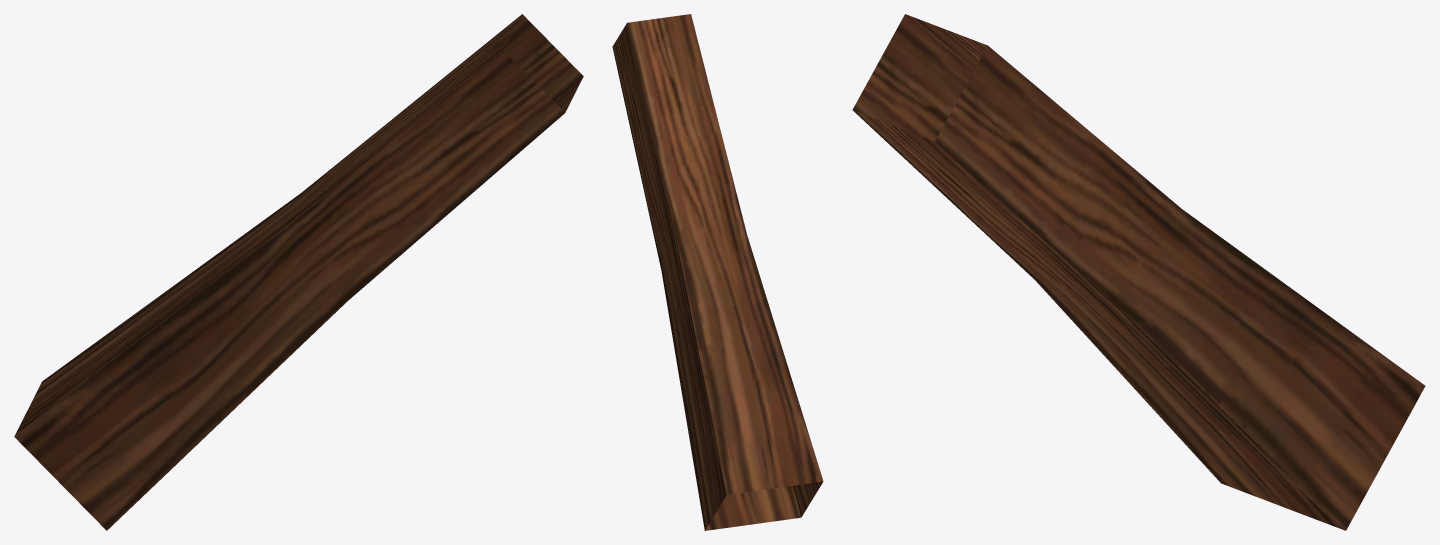
Rendered from OVERHILL_A_01_POST35.fbx.
3 renders of one model, left to right at view 1: azimuth 30°, elevation 25°; view 2: azimuth 150°, elevation 25°; view 3: azimuth 270°, elevation 25°, orthographic. The views are drawn at different scales.
Visible parts, largest first — view 1: OVERHILL_A_01_POST35; view 2: OVERHILL_A_01_POST35; view 3: OVERHILL_A_01_POST35.
Part boxes in pixels (bbox=[...]): OVERHILL_A_01_POST35: bbox=[14, 14, 583, 530]; OVERHILL_A_01_POST35: bbox=[612, 14, 823, 530]; OVERHILL_A_01_POST35: bbox=[852, 14, 1425, 530].
Size of the model in its own units: 6140 by 7005 by 5725.
Materials: 1 (1 with a texture image).
